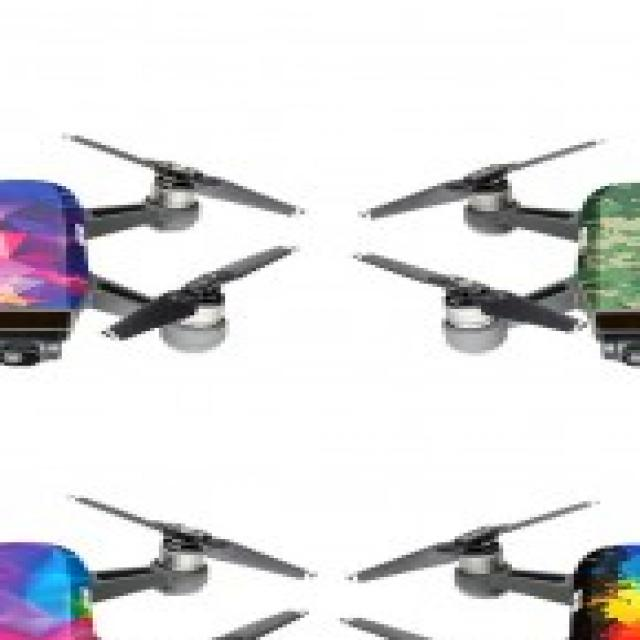drone: (344, 130, 640, 398), (0, 129, 322, 375), (0, 473, 327, 640), (340, 479, 640, 640)
